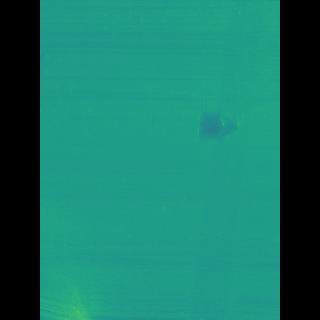Loch: (181, 91, 221, 151)
